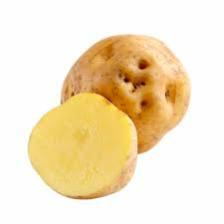Diseased-fungal potato: (55, 30, 193, 158)
